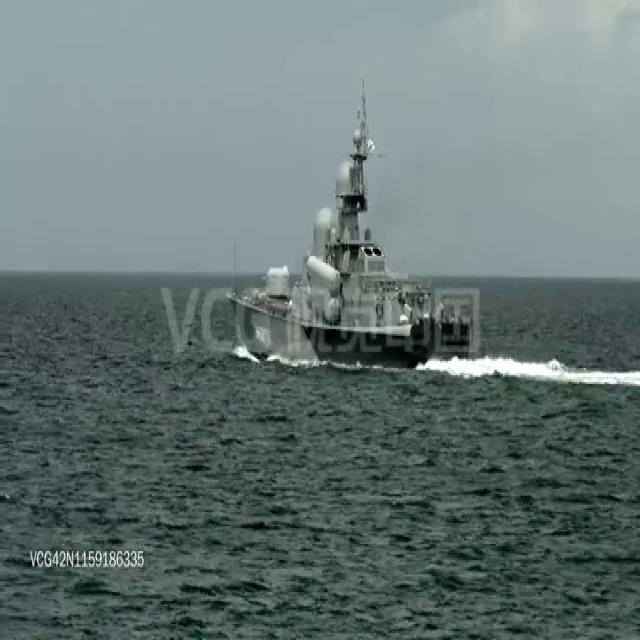houseboat: (220, 83, 492, 368)
